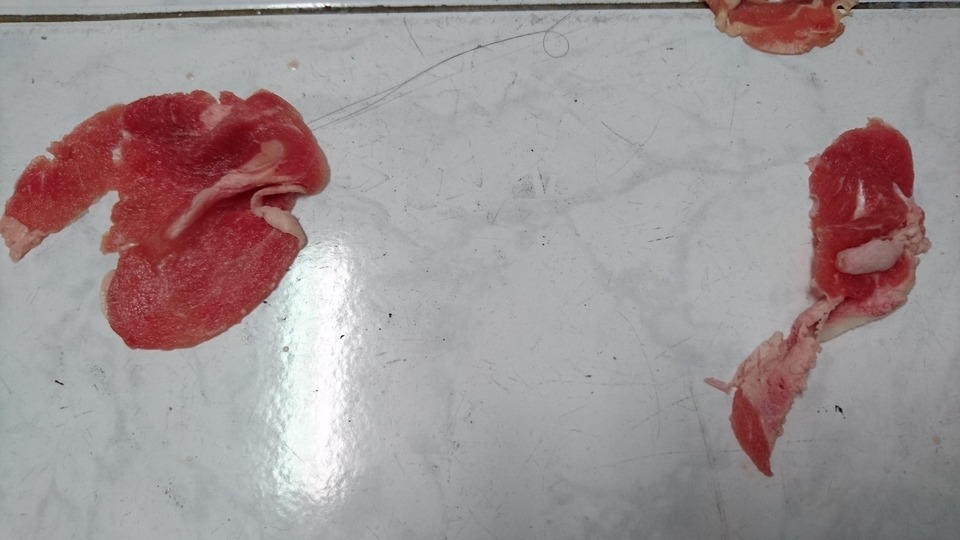restructured meat: (10, 88, 339, 346), (700, 110, 921, 471), (706, 4, 871, 61)
